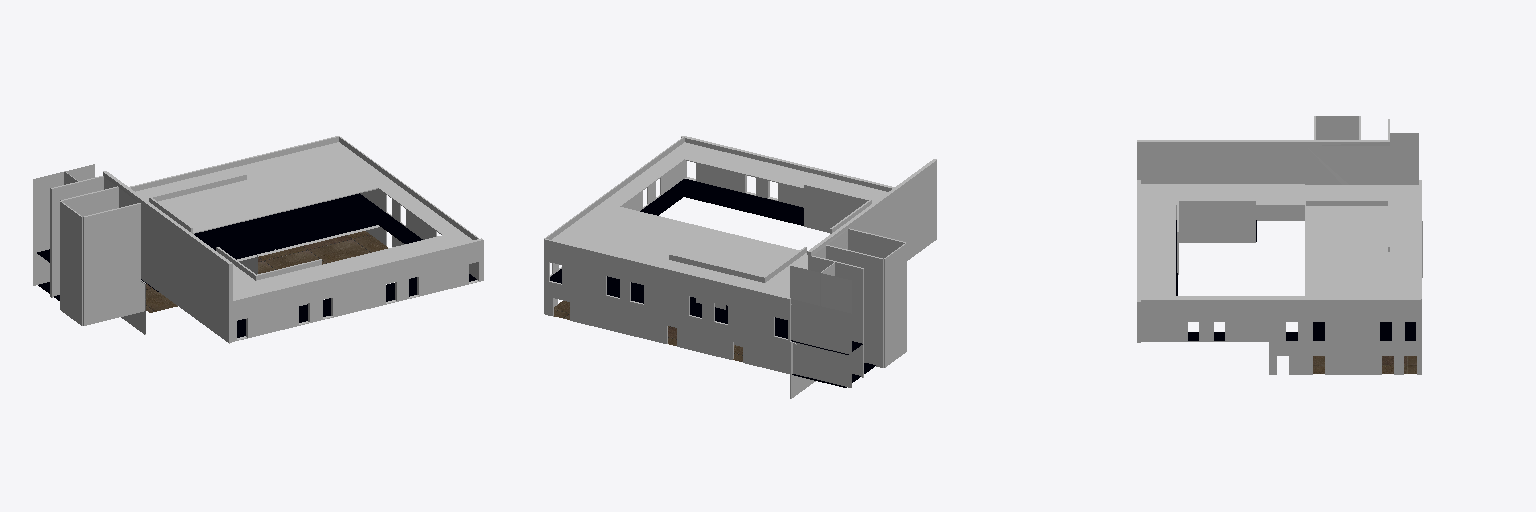
The picture shows the model from 3 angles: view 1: azimuth 30°, elevation 25°; view 2: azimuth 150°, elevation 25°; view 3: azimuth 270°, elevation 25°; orthographic projection.
Visible parts, largest first — view 1: sol_hub; view 2: sol_hub; view 3: sol_hub.
Boxes of the visible parts, <box> form: sol_hub: <box>33,136,483,343</box>; sol_hub: <box>544,136,936,398</box>; sol_hub: <box>1137,116,1422,374</box>.
Size of the model in its own units: 86.64 by 35.93 by 68.42.
6 materials, 1 textured.